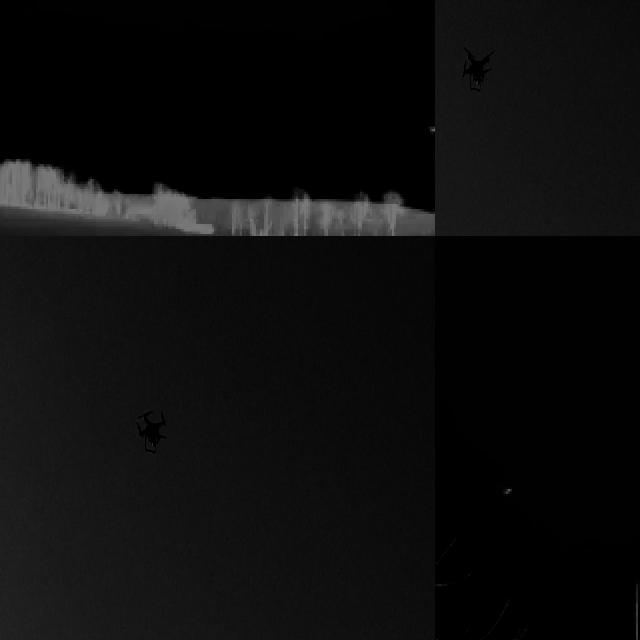0: (496, 479, 522, 511)
1: (417, 116, 435, 149)
drone: (458, 40, 494, 90), (136, 406, 166, 458)
